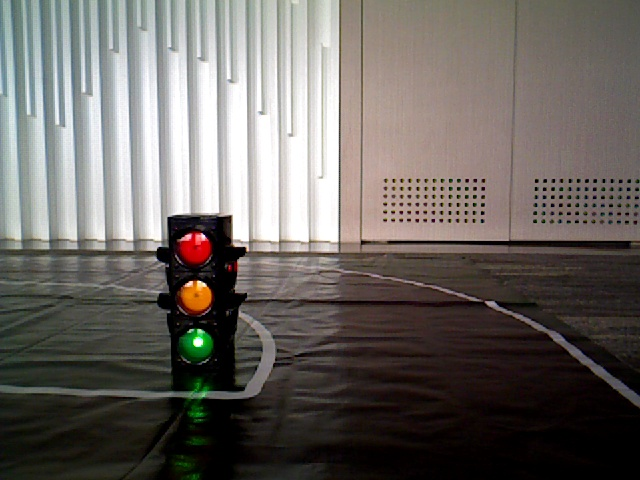green: (164, 217, 232, 370)
